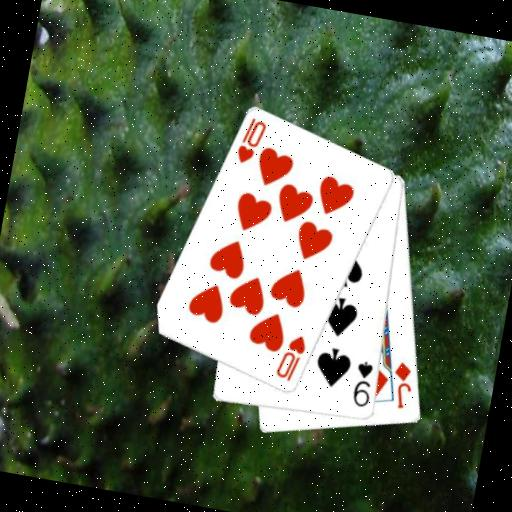10H: (271, 329, 309, 384), (232, 113, 269, 168)
9S: (348, 357, 378, 411)
JD: (385, 357, 417, 411)
